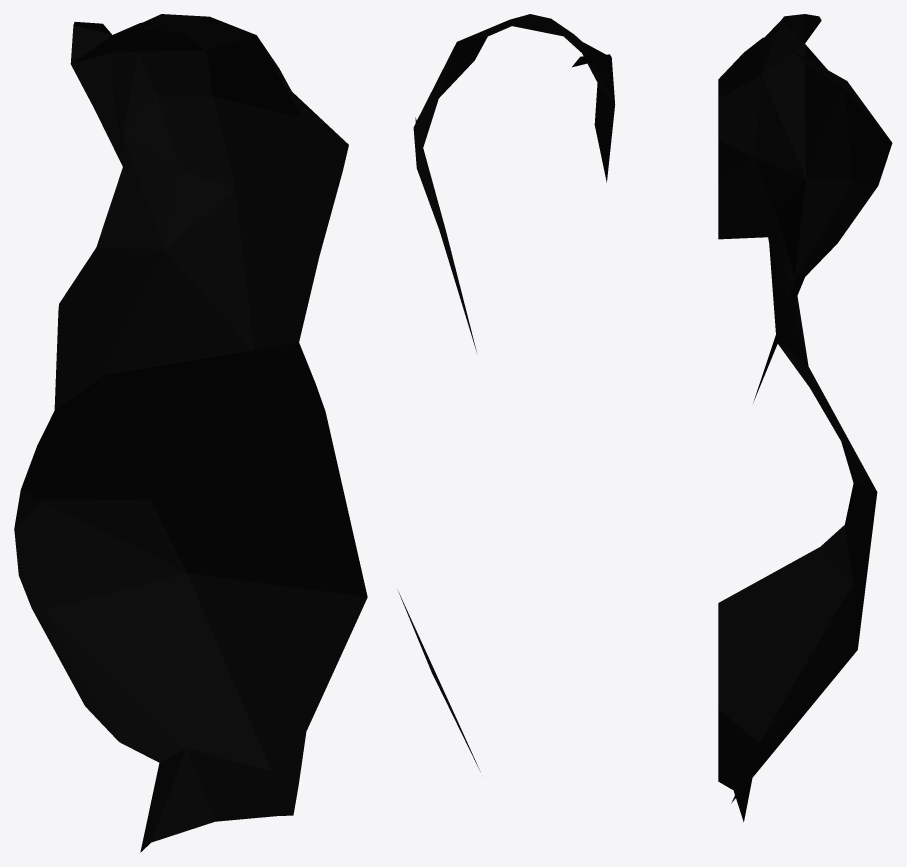
3 renders of one model, left to right at view 1: azimuth 30°, elevation 25°; view 2: azimuth 150°, elevation 25°; view 3: azimuth 270°, elevation 25°, orthographic. The views are drawn at different scales.
Size of the model in its own units: 0.3114 by 0.8373 by 0.1739.
1 material, 1 textured.
